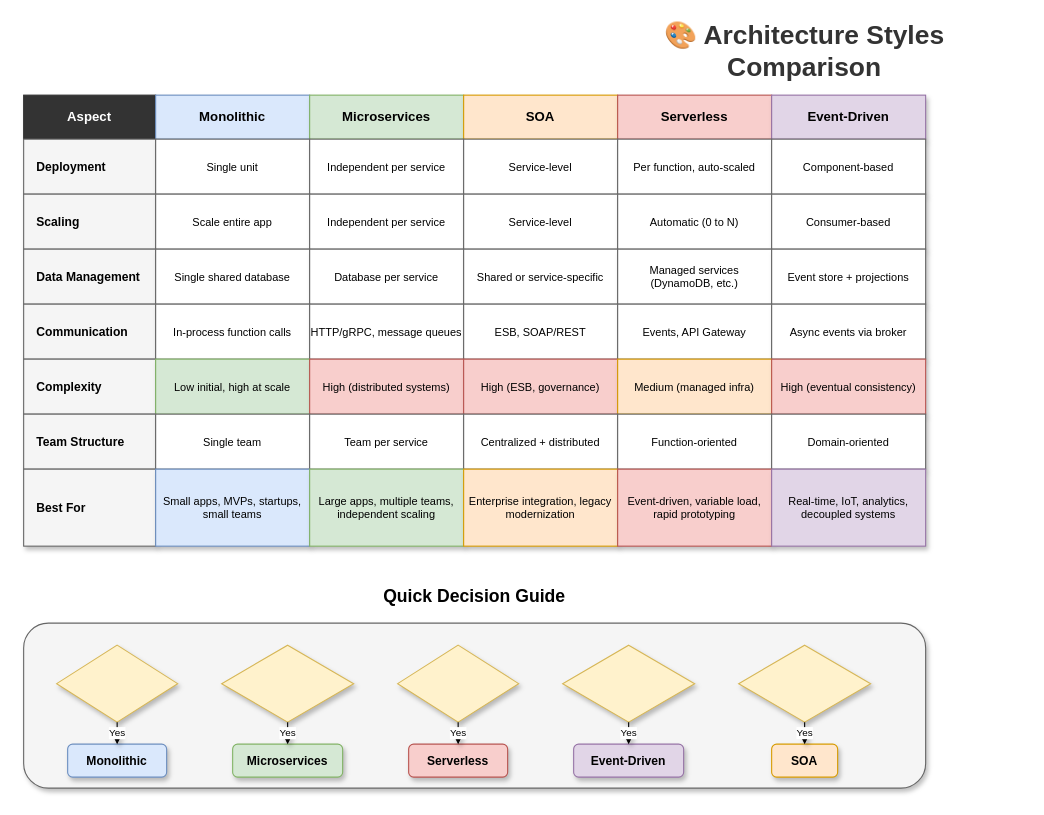
This 1044x815 diagram has some shape labels left out. Here are the shapes that lost their labels. From the top down, the centre of each, then its label:
the point at 117,685: Small team (<5)? Simple domain?
the point at 288,685: Multiple teams? Independent scaling?
the point at 458,685: Variable load? Event-triggered?
the point at 629,685: Real-time? Decoupling needed?
the point at 805,685: Enterprise-wide? Legacy integration?
